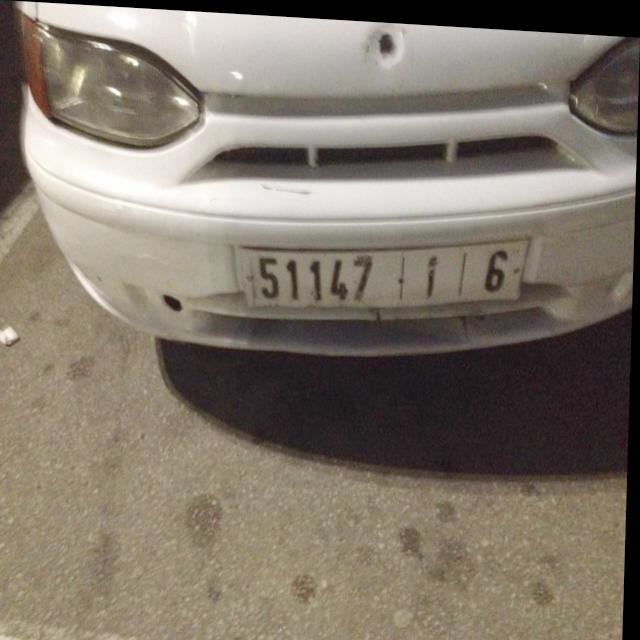License-Plate: (238, 233, 529, 305)
